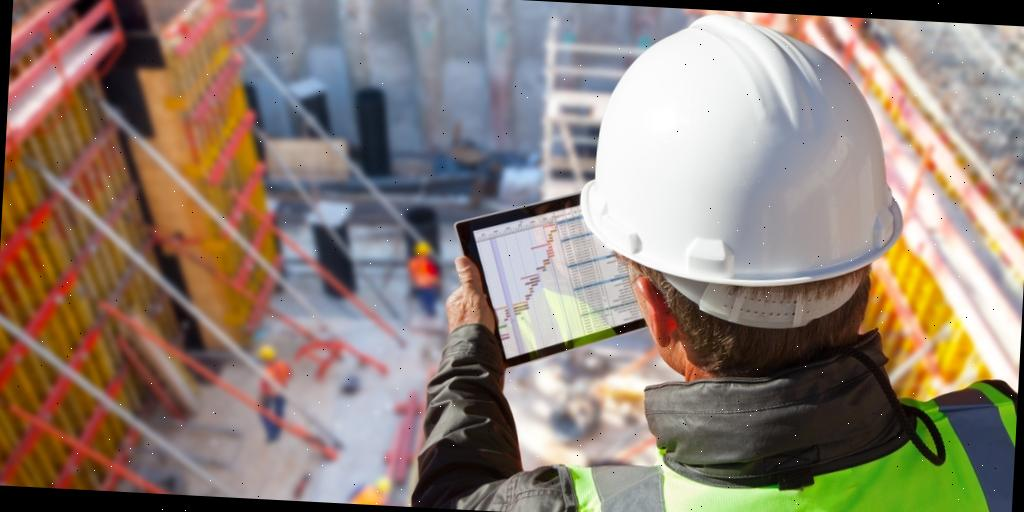helmet: (572, 6, 906, 290)
wear: (478, 358, 1018, 512)
